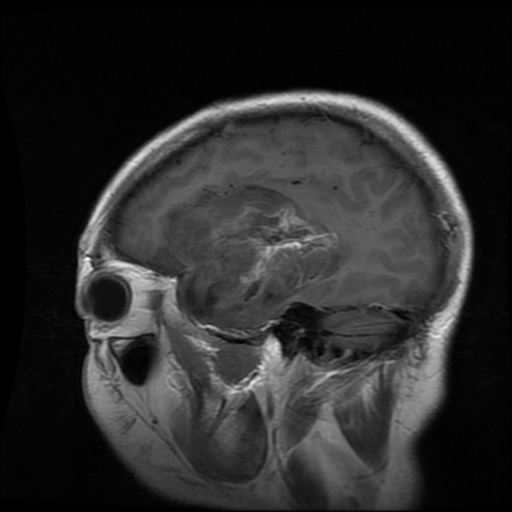glioma: (155, 181, 341, 313)
